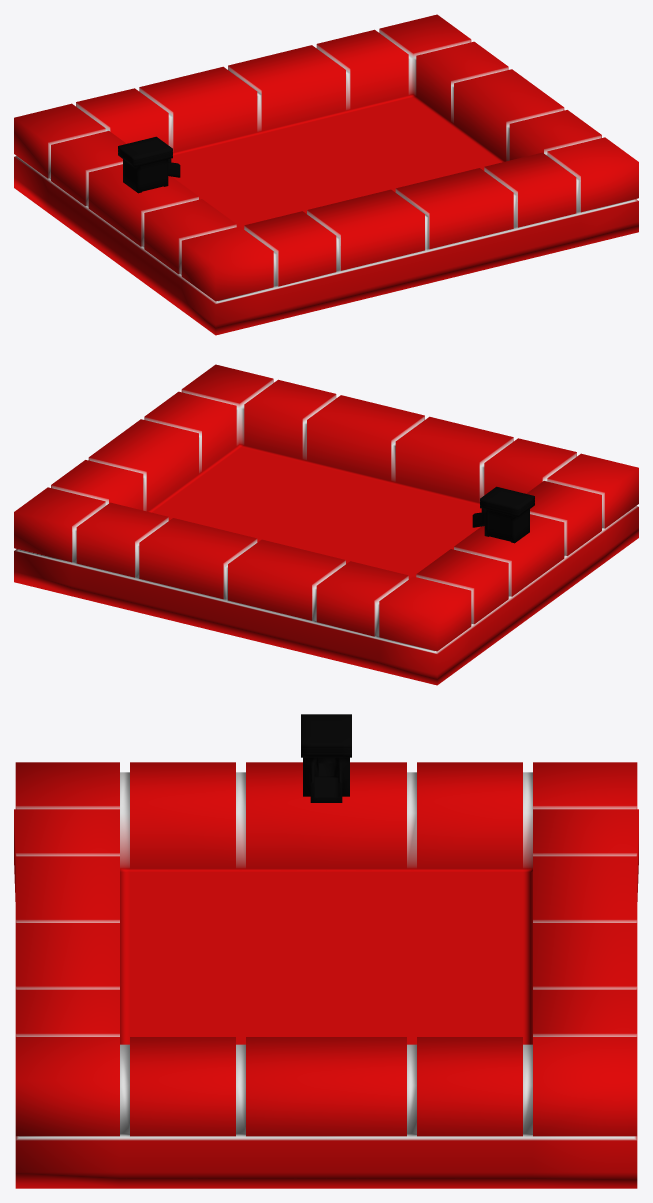
File: Pool.fbx
3 views of the same model, one above another, from view 1: azimuth 30°, elevation 25°; view 2: azimuth 150°, elevation 25°; view 3: azimuth 270°, elevation 25° (orthographic). The views are drawn at different scales.
Visible parts, largest first — view 1: bathtube, waterbasin; view 2: bathtube, waterbasin; view 3: bathtube, waterbasin.
Part boxes in pixels (x1=…): bathtube: x1=14, y1=14, x2=638, y2=335; waterbasin: x1=118, y1=136, x2=180, y2=193; bathtube: x1=14, y1=364, x2=638, y2=685; waterbasin: x1=472, y1=486, x2=534, y2=543; bathtube: x1=14, y1=762, x2=638, y2=1188; waterbasin: x1=301, y1=714, x2=351, y2=802.
Size of the model in its own units: 1181 by 285 by 979.
